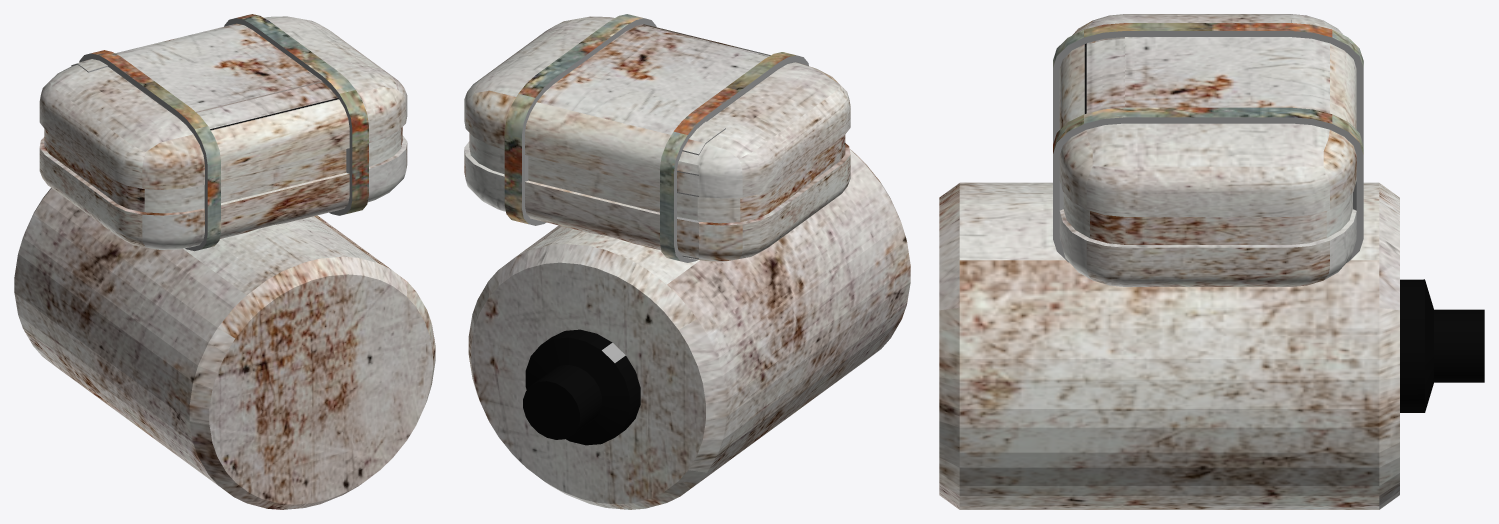
Rendered from engineforferrie.fbx.
The picture shows the model from 3 angles, left to right: view 1: azimuth 30°, elevation 25°; view 2: azimuth 150°, elevation 25°; view 3: azimuth 270°, elevation 25°; orthographic projection. The views are drawn at different scales.
Parts seen in each view (by area): view 1: enginewheel, engine; view 2: enginewheel, engine; view 3: enginewheel, engine.
Part boxes in pixels (x1,y1,x2,y2): enginewheel: (14, 188, 435, 509); engine: (39, 14, 407, 251); enginewheel: (468, 149, 910, 509); engine: (464, 14, 850, 262); enginewheel: (939, 182, 1484, 509); engine: (1053, 14, 1363, 286).
Bounding box in the file's own units: 12.32 × 14.75 × 16.88.
Materials: 5 (2 with a texture image).
